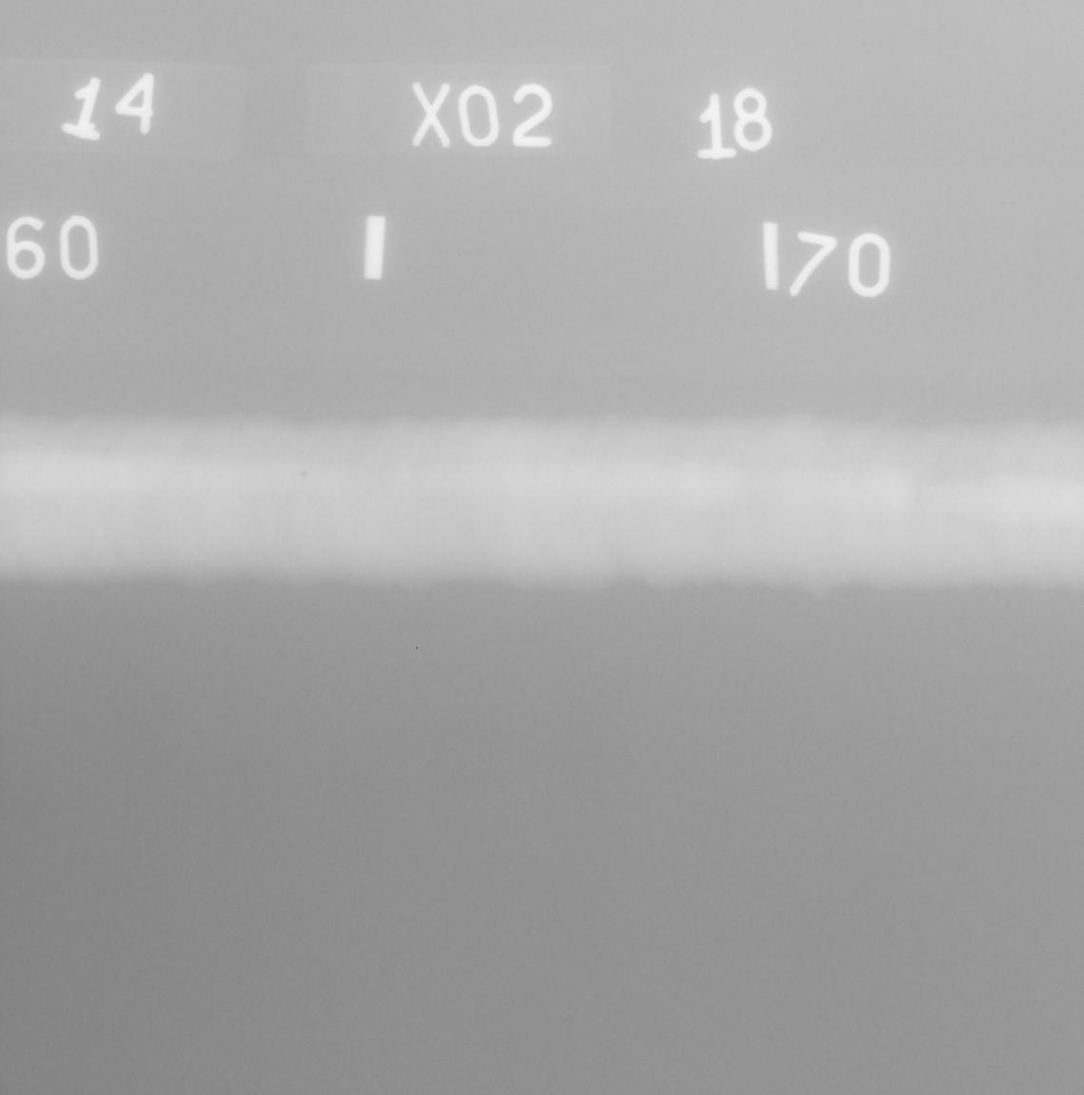Pore/Porosity: (300, 472, 306, 478)
